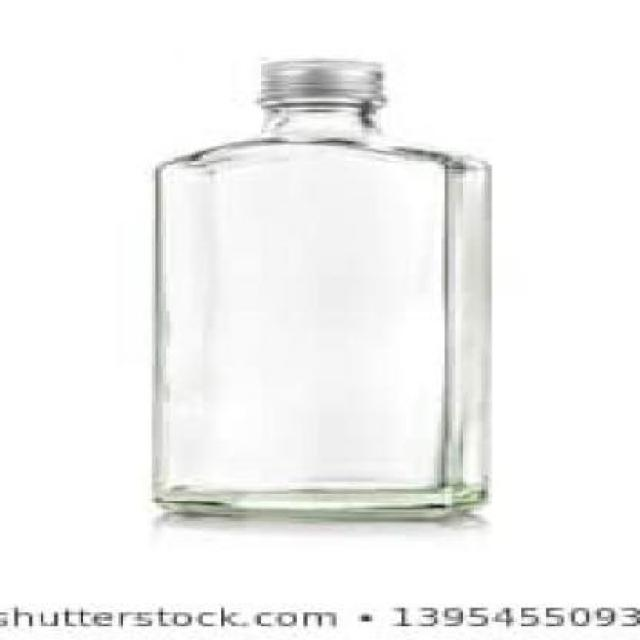kaca: (148, 94, 484, 514)
